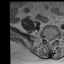CCS_normal: (49, 38, 51, 46)
LFS_normal: (54, 35, 56, 43)
LLS_normal: (51, 37, 53, 45)
RFS_stenosis: (44, 35, 47, 42)
RLS_normal: (47, 38, 49, 45)
